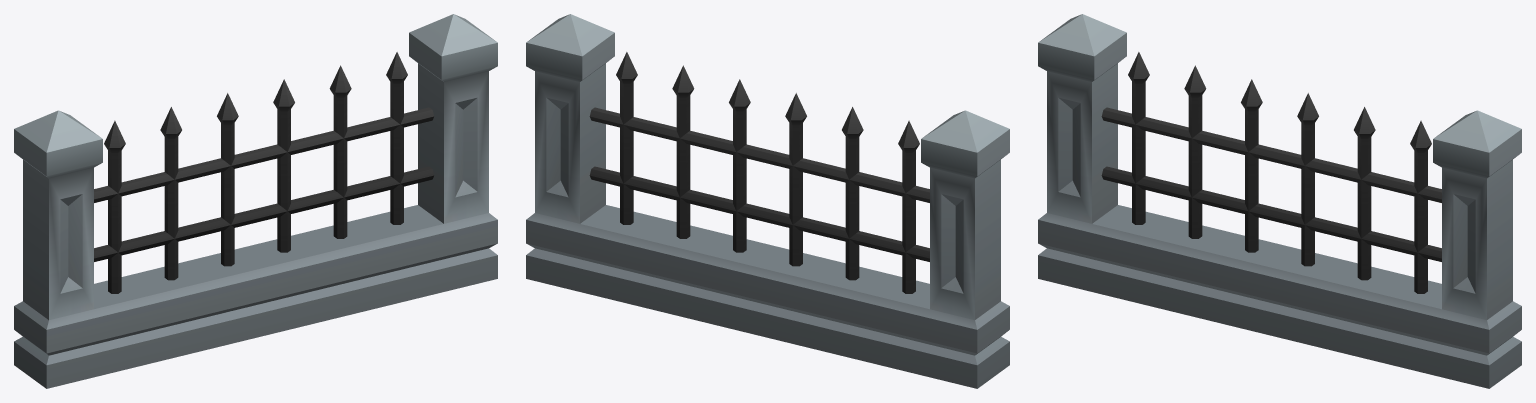
Rendered from kaykit-halloween-bits-fence.glb.
The picture shows the model from 3 angles, left to right: view 1: azimuth 30°, elevation 25°; view 2: azimuth 150°, elevation 25°; view 3: azimuth 330°, elevation 25°; orthographic projection.
Parts seen in each view (by area): view 1: fence; view 2: fence; view 3: fence.
Part boxes in pixels (left/top/right/bottom): fence: left=14, top=14, right=497, bottom=388; fence: left=526, top=14, right=1009, bottom=388; fence: left=1038, top=14, right=1521, bottom=388.
Bounding box in the file's own units: 4 × 2.2 × 0.5.
Materials: 1 (1 with a texture image).
